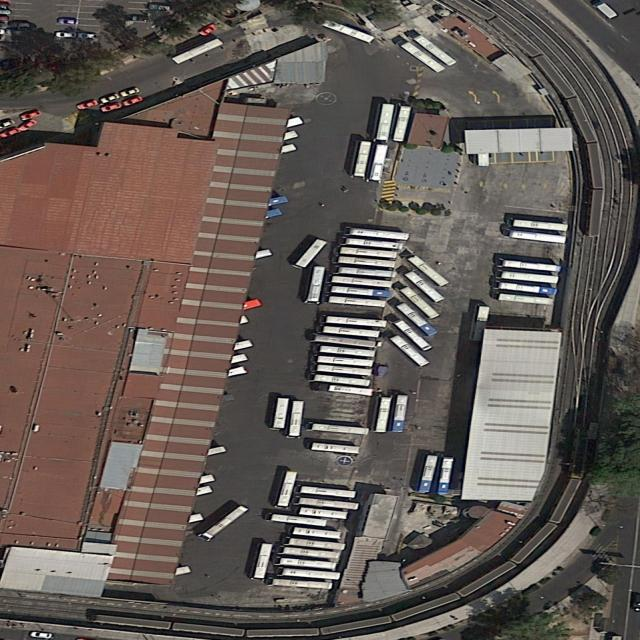large-vehicle: (197, 503, 251, 542), (395, 38, 448, 74), (409, 32, 458, 67), (395, 284, 442, 320), (170, 36, 226, 66), (403, 253, 451, 287), (393, 302, 439, 337), (402, 269, 447, 304), (320, 18, 378, 45), (197, 298, 263, 321), (388, 333, 431, 368), (392, 318, 434, 352), (190, 339, 255, 360), (186, 353, 249, 373), (210, 248, 273, 268), (188, 315, 250, 335), (191, 365, 249, 386), (311, 331, 377, 349), (224, 208, 283, 228), (244, 144, 298, 165), (248, 542, 277, 581), (293, 495, 360, 511), (268, 576, 335, 592), (497, 257, 564, 273), (278, 544, 341, 561), (231, 196, 290, 214), (345, 226, 411, 242), (295, 237, 329, 268), (274, 469, 299, 510), (283, 536, 347, 552), (416, 454, 442, 493), (266, 512, 329, 528), (275, 555, 338, 571), (278, 566, 341, 582), (251, 117, 304, 136), (506, 228, 568, 244), (339, 235, 405, 250), (496, 270, 562, 285), (494, 281, 560, 296), (325, 314, 389, 329), (154, 512, 204, 531), (318, 343, 377, 359), (367, 143, 391, 182), (391, 103, 415, 142), (309, 372, 371, 387), (296, 484, 357, 499), (251, 130, 299, 149), (337, 265, 397, 280), (321, 324, 381, 339), (315, 354, 375, 369), (166, 473, 216, 491), (495, 291, 555, 306), (373, 103, 396, 142), (142, 565, 191, 583), (308, 422, 370, 436), (508, 218, 570, 232), (331, 275, 393, 289), (470, 304, 492, 343), (330, 284, 391, 298), (352, 140, 375, 177), (164, 485, 214, 502), (314, 364, 373, 378), (373, 395, 394, 434), (291, 525, 345, 540), (306, 265, 327, 303), (391, 394, 411, 433), (436, 456, 456, 495), (339, 246, 398, 259), (328, 295, 387, 308), (310, 441, 361, 456), (338, 255, 396, 268), (287, 400, 306, 439), (180, 446, 228, 461), (299, 506, 349, 520), (271, 397, 291, 429), (328, 384, 375, 397)
small-vehicle: (197, 22, 220, 37), (75, 99, 100, 111), (118, 86, 142, 98), (17, 118, 37, 132), (99, 93, 122, 105), (122, 95, 145, 107), (19, 110, 42, 121), (99, 102, 122, 113), (55, 30, 77, 39), (126, 14, 148, 22), (77, 32, 99, 40), (58, 17, 77, 25)
